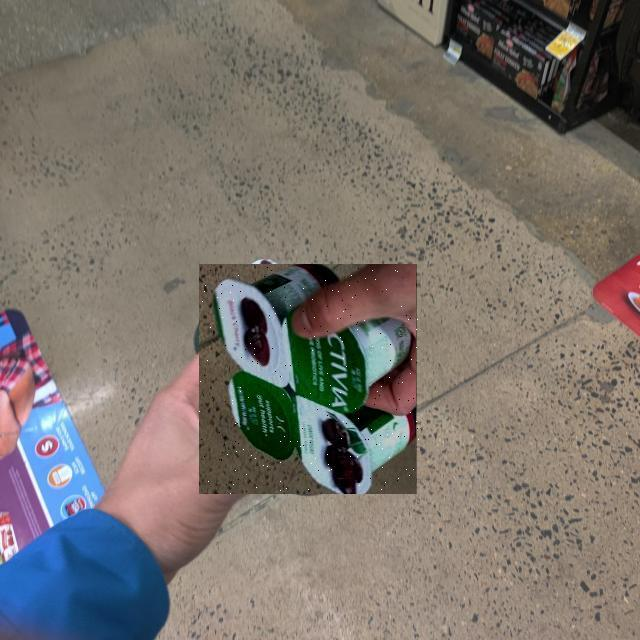Yoghurt: (200, 265, 420, 495)
